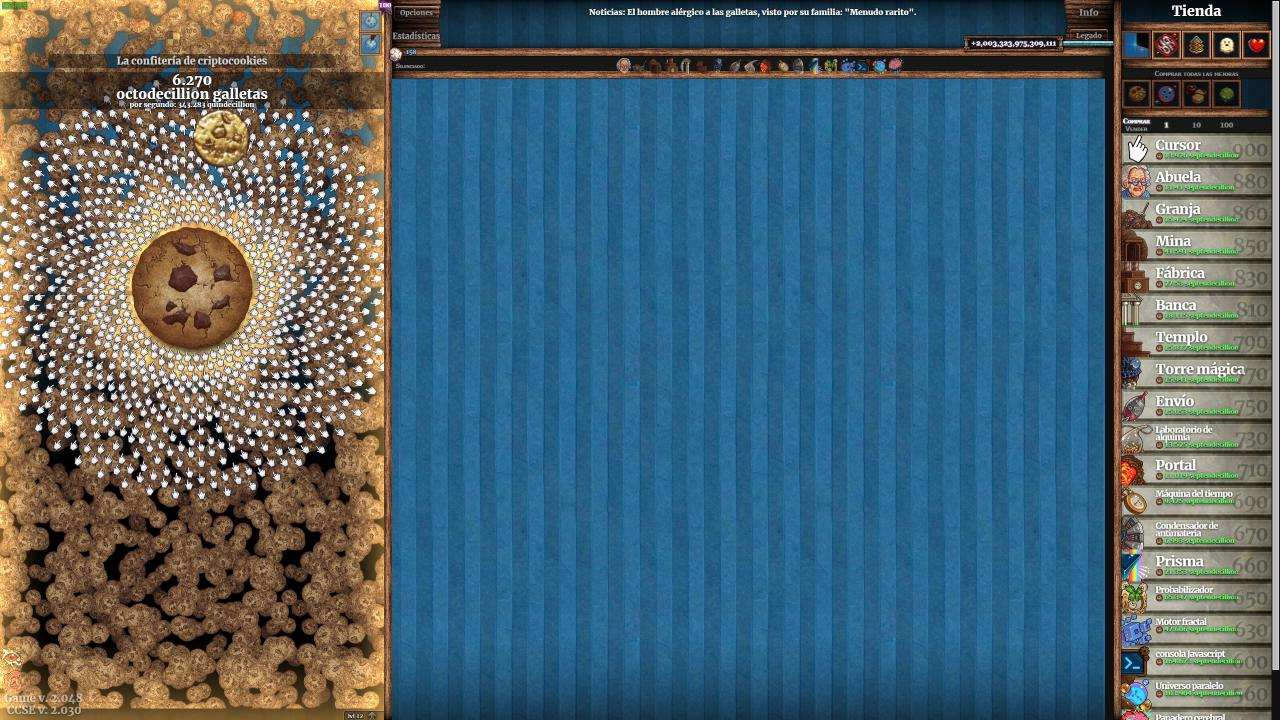GoldenCookie: (192, 109, 252, 170)
